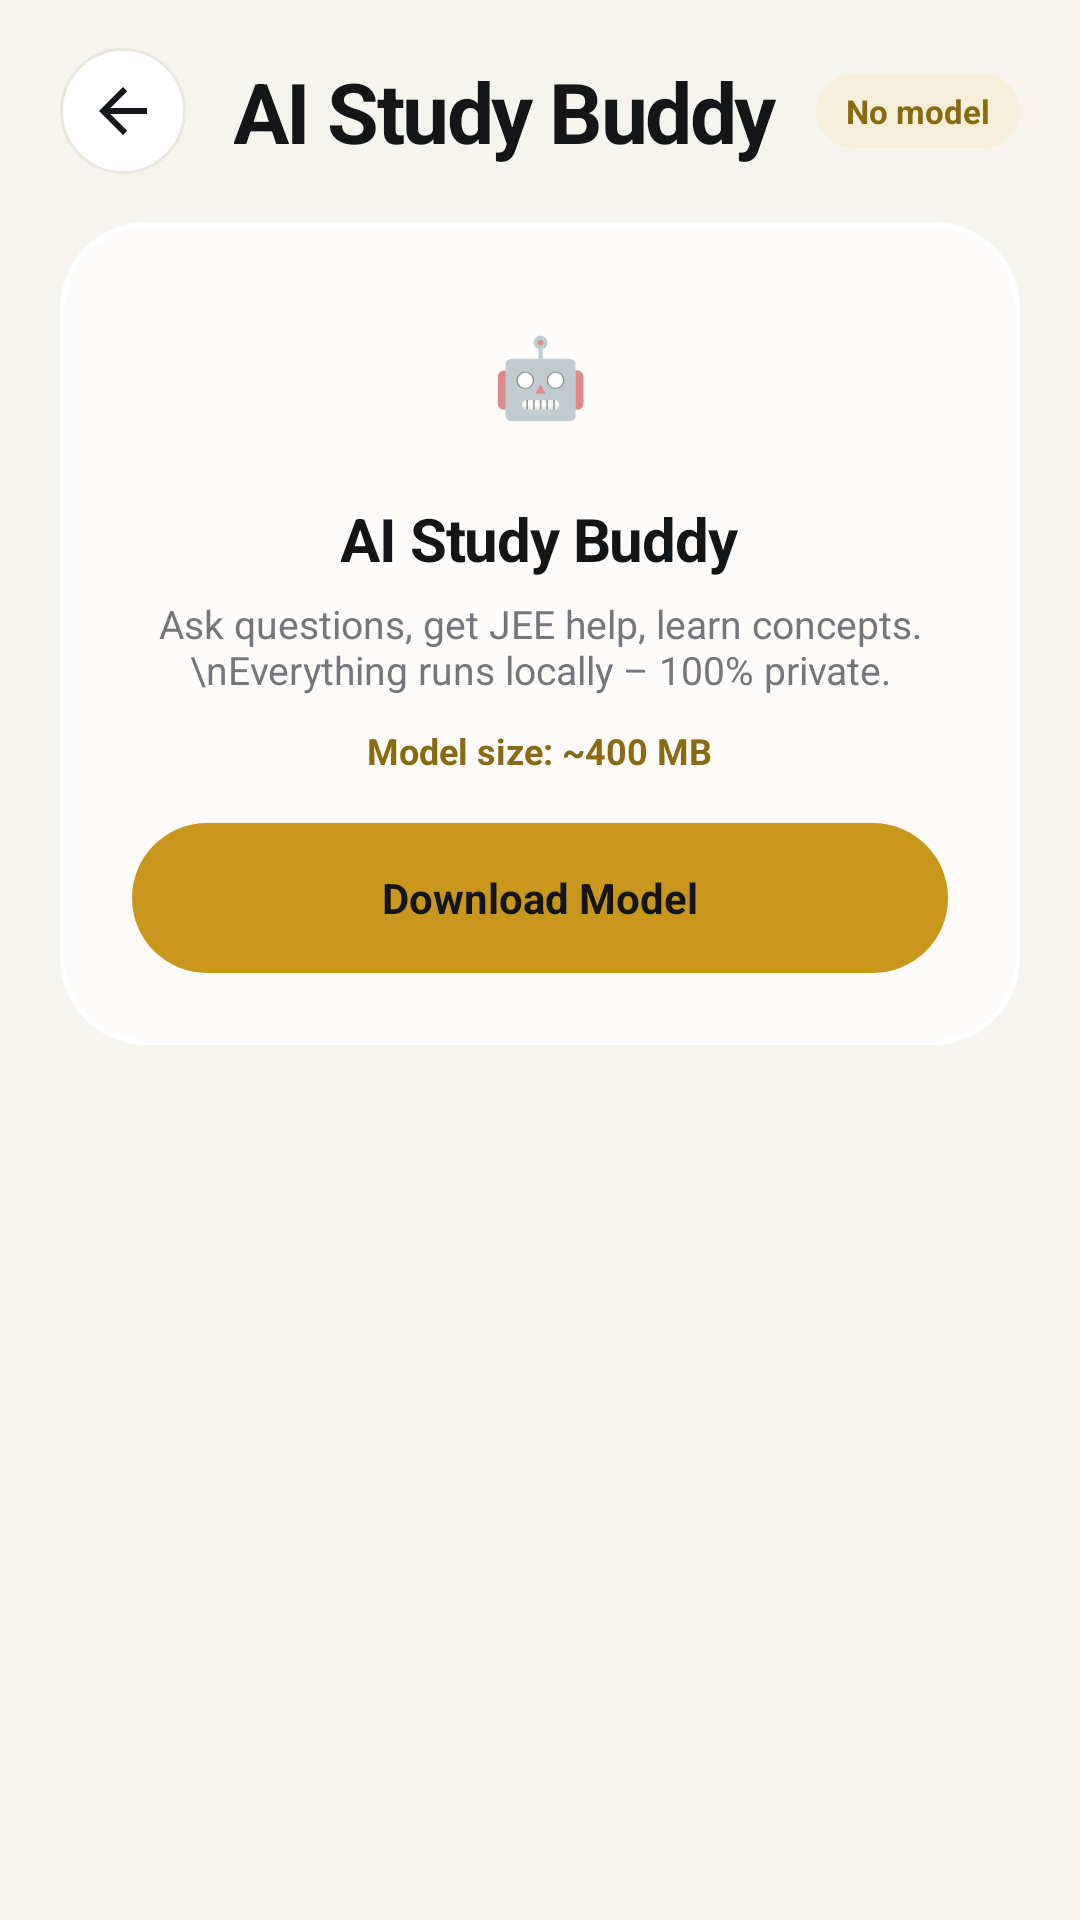

Locate icon controls on the screen. Image size 1080 × 1920, boxes as (x1, y1, x2, y2).
Back: (60, 48, 186, 174)
